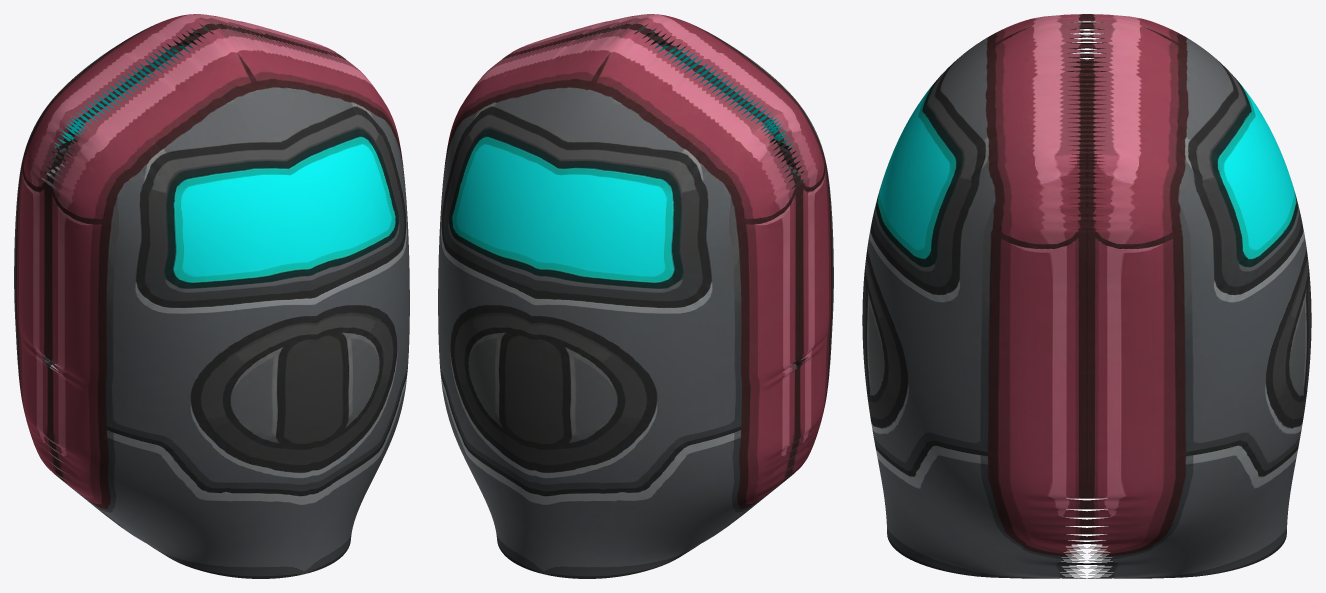
The model's file is red_access_terminal.glb.
The picture shows the model from 3 angles, left to right: view 1: azimuth 30°, elevation 25°; view 2: azimuth 150°, elevation 25°; view 3: azimuth 270°, elevation 25°; orthographic projection. The views are drawn at different scales.
Visible parts, largest first — view 1: red_access_terminal; view 2: red_access_terminal; view 3: red_access_terminal.
Part boxes in pixels (box(x1,y1,x2,y2)): red_access_terminal: box(14, 14, 409, 578); red_access_terminal: box(438, 14, 833, 578); red_access_terminal: box(862, 14, 1311, 578).
Bounding box in the file's own units: 0.9846 × 1.38 × 1.09.
1 material, 1 textured.
